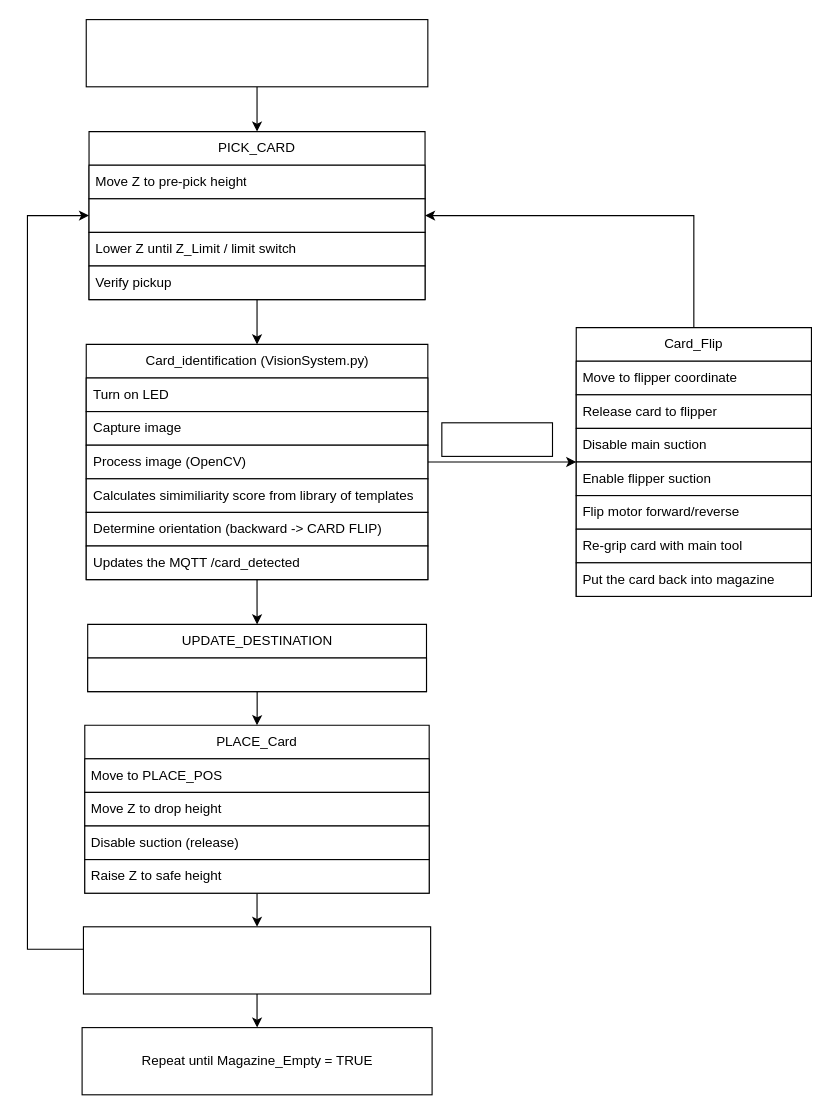
Some shapes in this 831 by 1114 pixel diagram are drawn without their labels. The centre of each missing label's shape, as x and y in pixels:
"Card backward" belongs at pixel 496 439.
"Enable main suction" belongs at pixel 256 215.
"Node-RED updates X/Y/Z Position index" belongs at pixel 256 674.
"RETURN HOME (PICK_CARD)" belongs at pixel 256 960.
"SORT_RANK_START" belongs at pixel 256 52.
